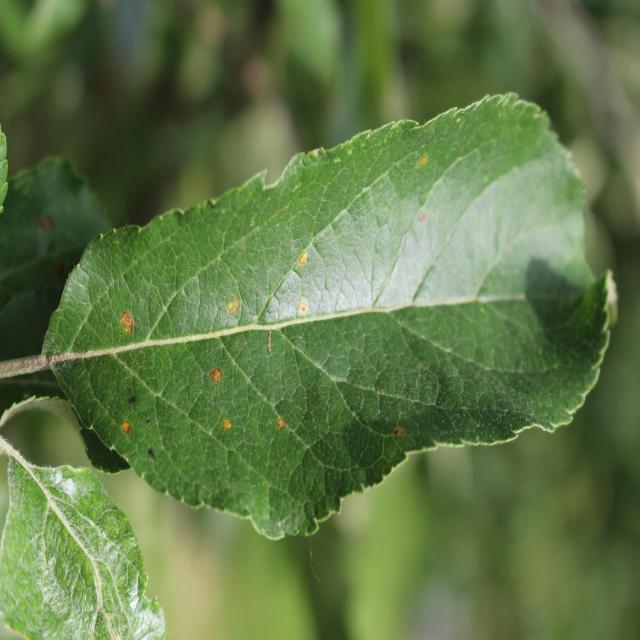Rust: (370, 414, 419, 459), (260, 398, 300, 446), (115, 291, 141, 350), (117, 400, 139, 468), (403, 138, 438, 178), (219, 285, 249, 325), (286, 299, 322, 325), (198, 364, 236, 388), (216, 409, 242, 444), (288, 253, 323, 277), (415, 200, 436, 232)
